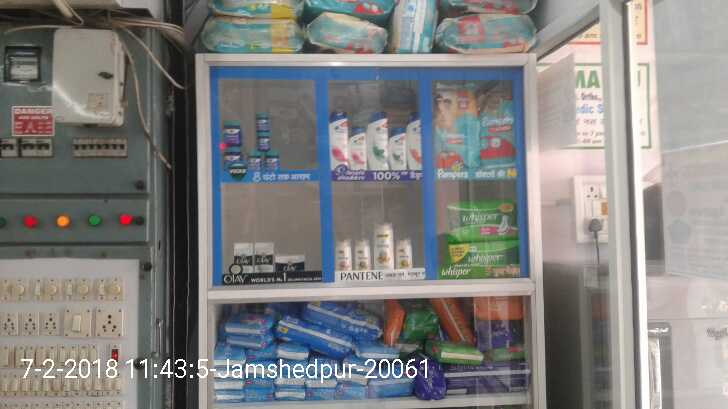beauty: (366, 110, 389, 174), (325, 110, 348, 172), (371, 222, 395, 273), (404, 113, 424, 174), (394, 236, 415, 278), (347, 124, 365, 173), (253, 240, 274, 281), (274, 252, 309, 276), (389, 126, 407, 171), (231, 241, 254, 276), (335, 241, 353, 276), (355, 245, 369, 274)
pharmacy: (434, 91, 482, 172), (440, 235, 527, 275), (447, 200, 521, 244), (481, 84, 519, 165), (217, 120, 244, 148), (223, 150, 242, 172), (255, 109, 271, 135), (243, 150, 263, 170), (262, 152, 282, 169), (258, 134, 273, 152)
